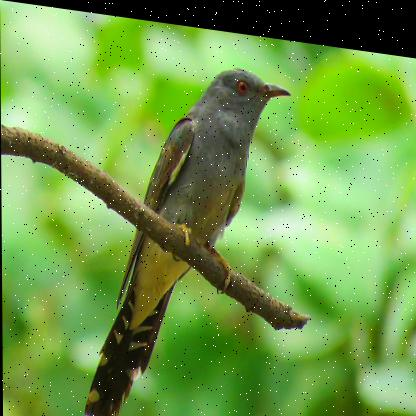Burung: (81, 42, 294, 415)
